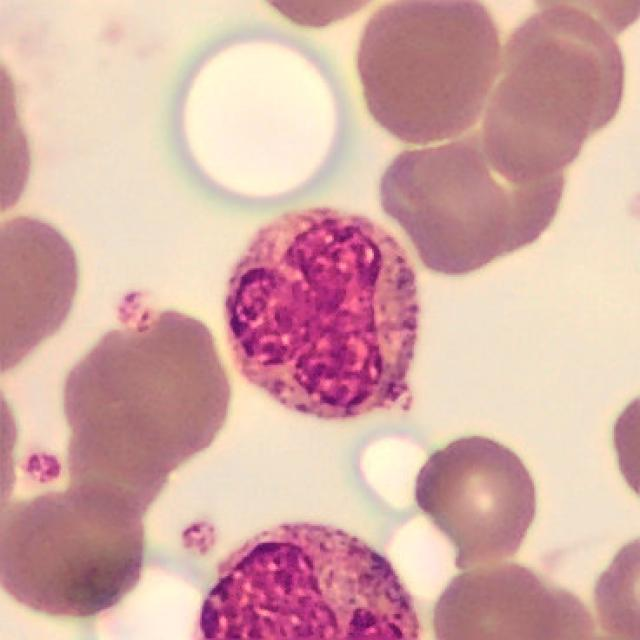Neutrofilo segmentado: (224, 208, 419, 422)
